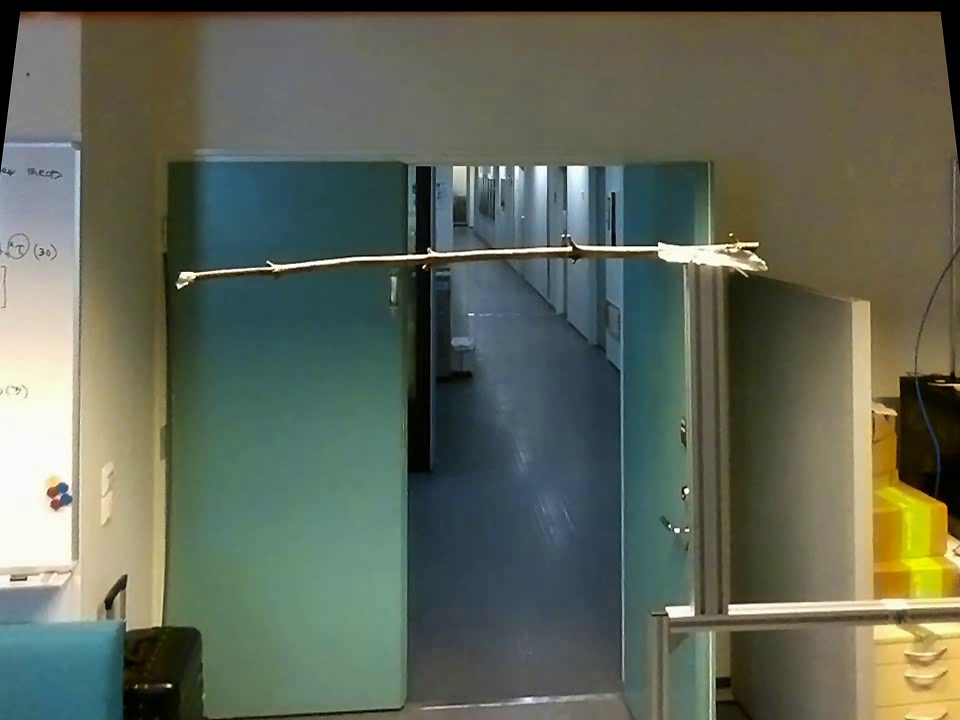aluminum_frame: (681, 263, 742, 605), (64, 133, 90, 571), (664, 592, 957, 628), (643, 603, 677, 717), (5, 131, 90, 161), (82, 131, 87, 551)
branch: (201, 227, 647, 287)
